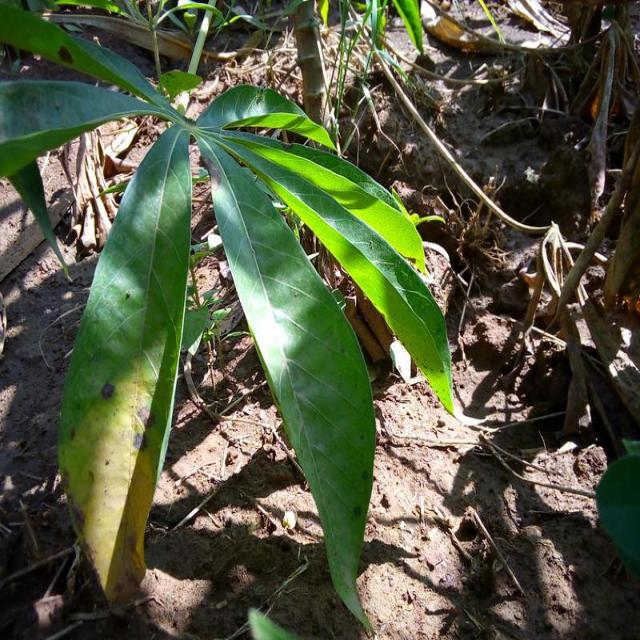cassava leaf: (195, 114, 379, 633), (57, 121, 194, 606)
